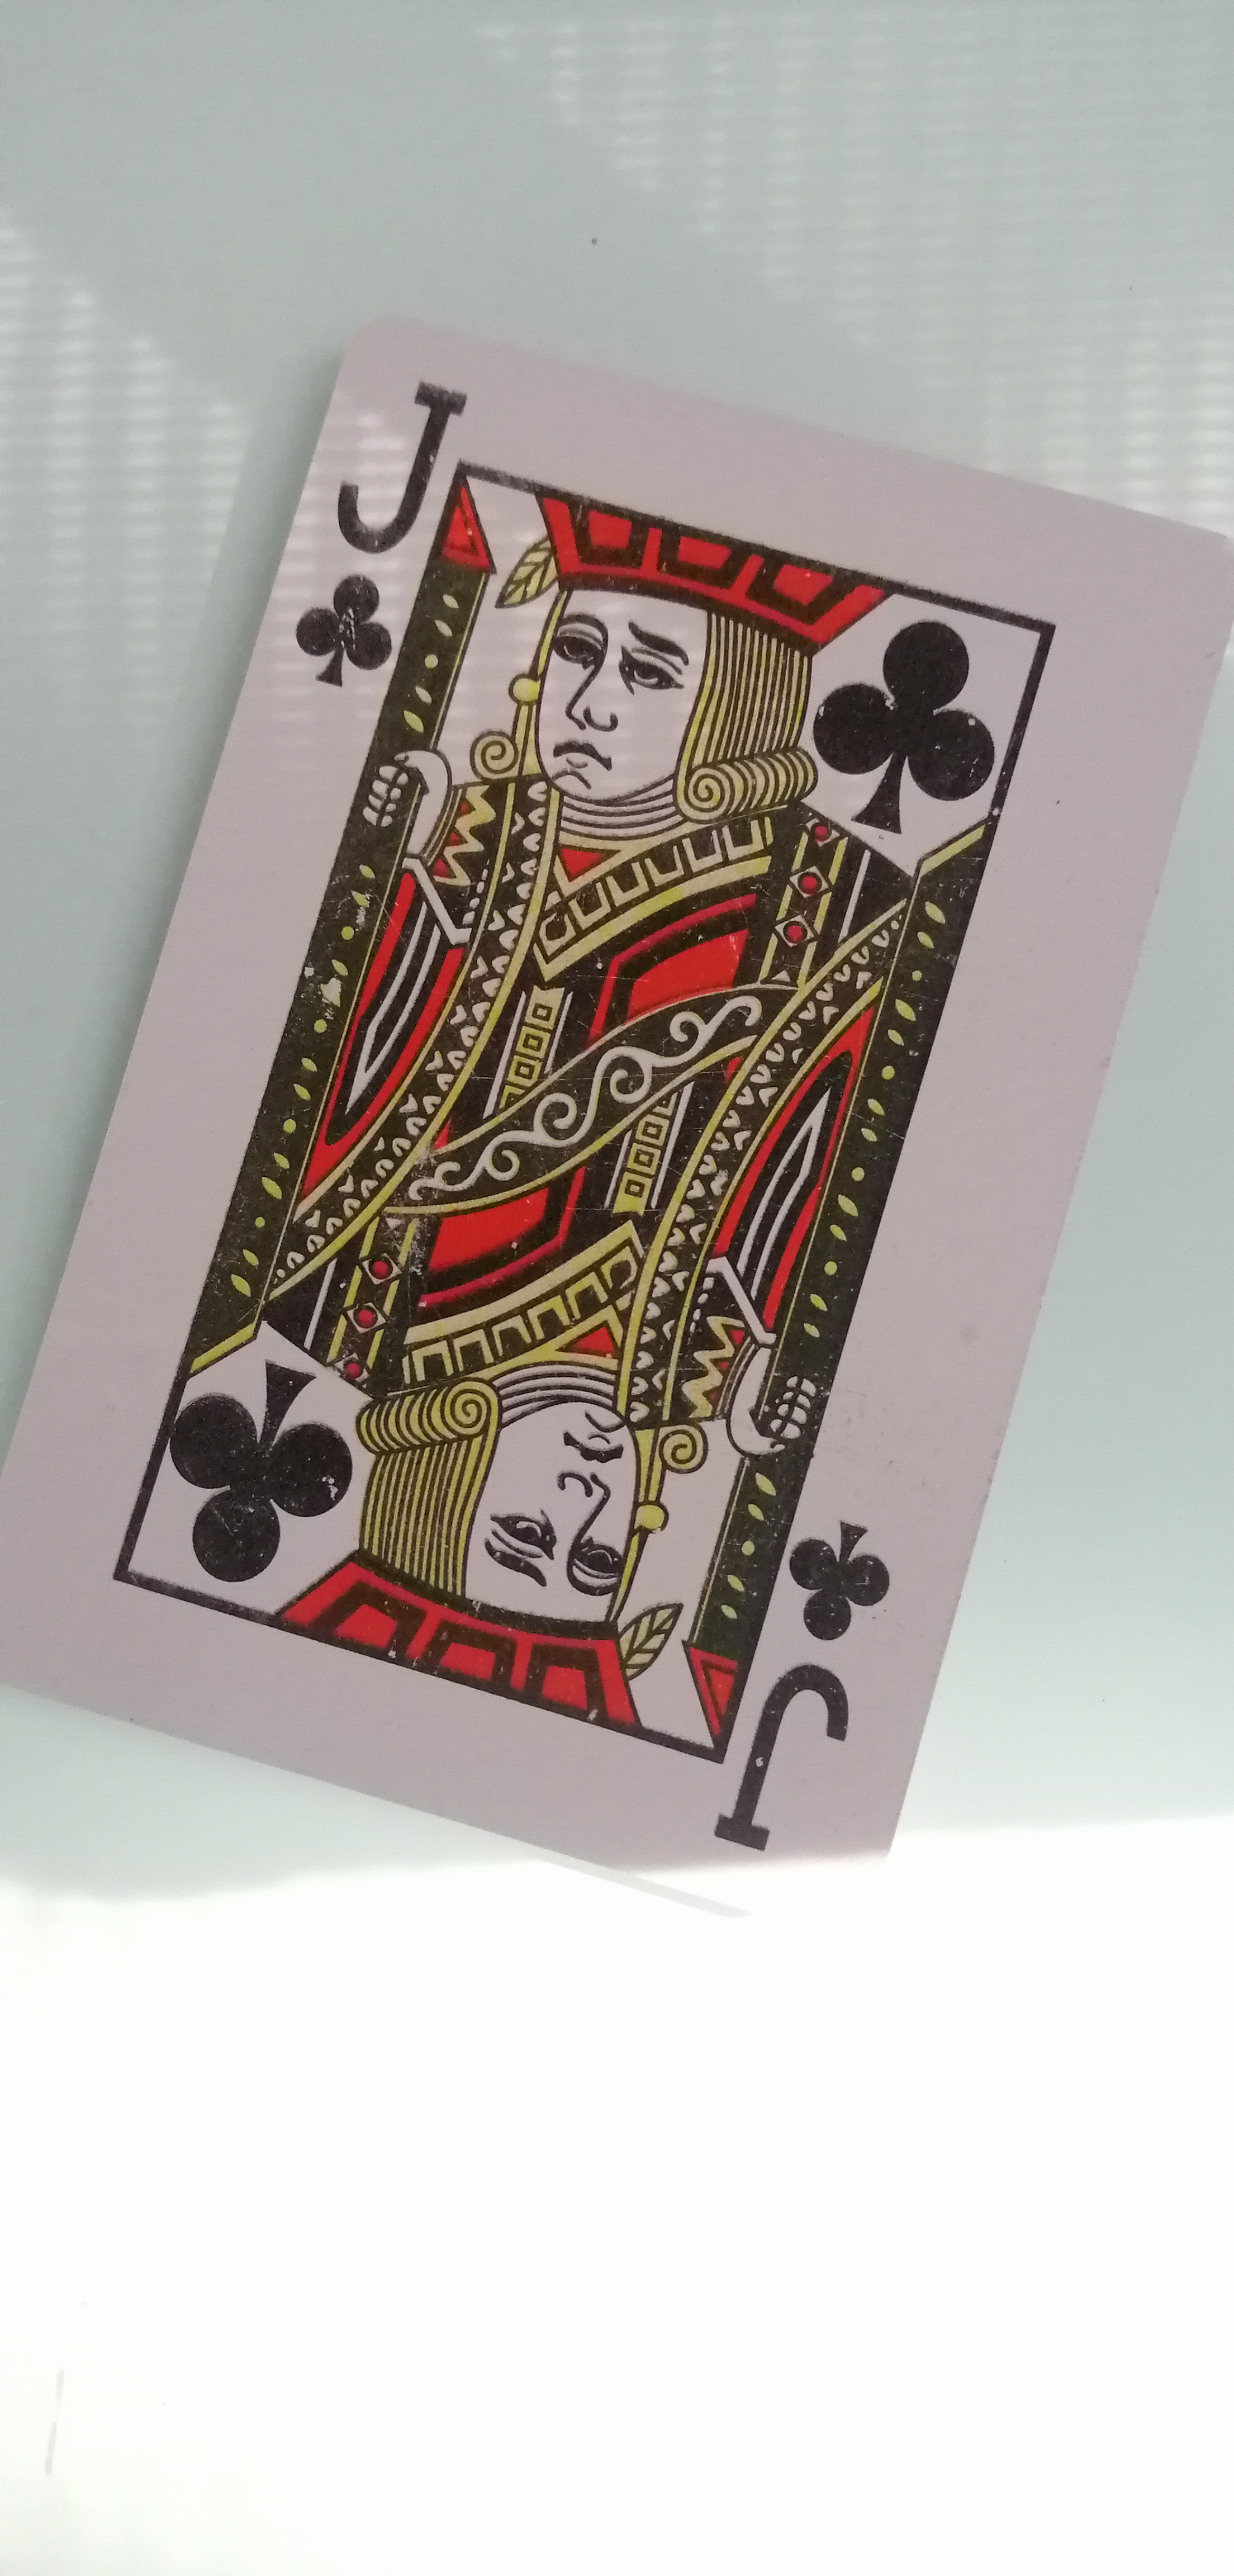jack: (26, 258, 1234, 1944)
